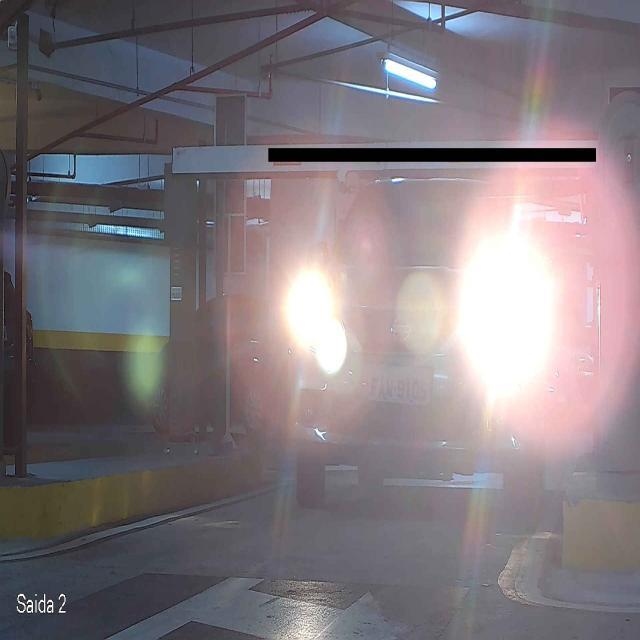old_plate: (360, 361, 436, 407)
